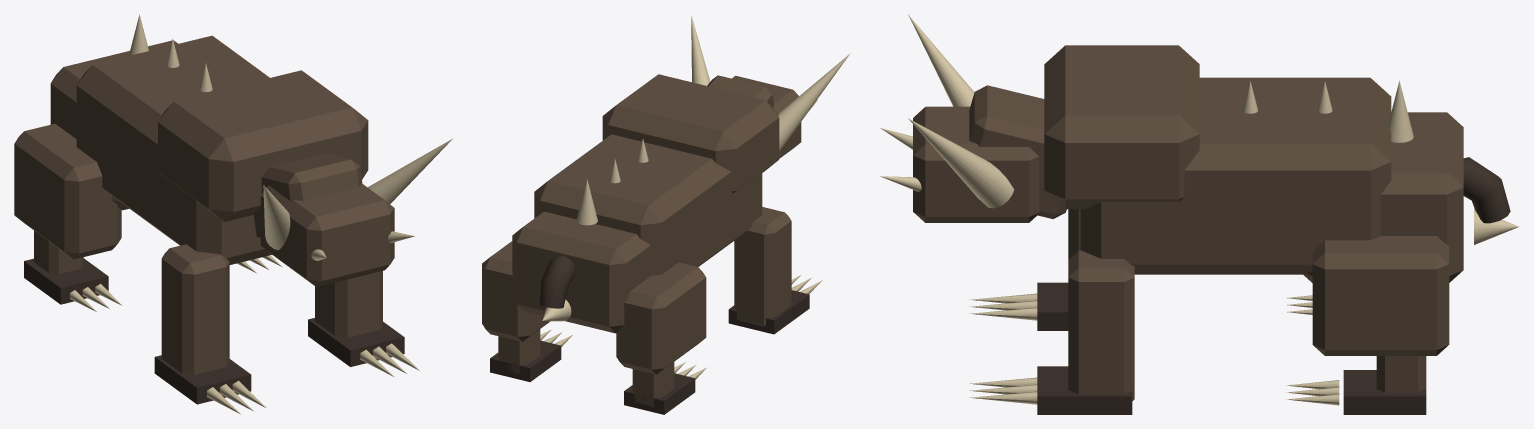
The picture shows the model from 3 angles, left to right: view 1: azimuth 30°, elevation 25°; view 2: azimuth 150°, elevation 25°; view 3: azimuth 270°, elevation 25°; orthographic projection. The views are drawn at different scales.
Parts seen in each view (by area): view 1: survival_klauwbeest; view 2: survival_klauwbeest; view 3: survival_klauwbeest.
Boxes of the visible parts, box(x1,y1,x2,y2) form: survival_klauwbeest: box(14, 14, 452, 414); survival_klauwbeest: box(482, 15, 849, 414); survival_klauwbeest: box(880, 14, 1519, 414).
Size of the model in its own units: 1.36 by 1.56 by 3.09.
